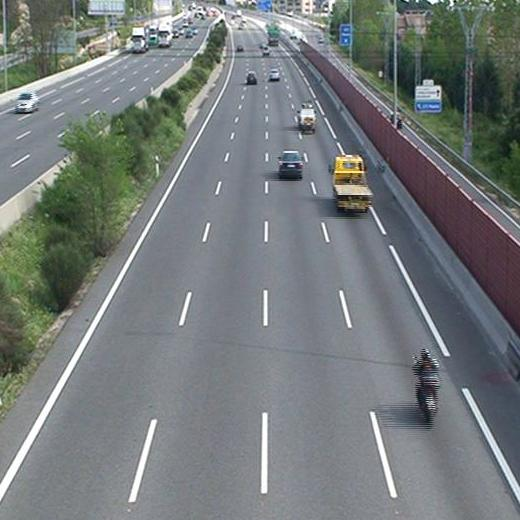car: (277, 149, 305, 179), (245, 71, 258, 85), (268, 69, 281, 82)
motorcycle: (411, 348, 443, 429)
small-truck: (329, 154, 374, 214)
van: (296, 106, 318, 130)
